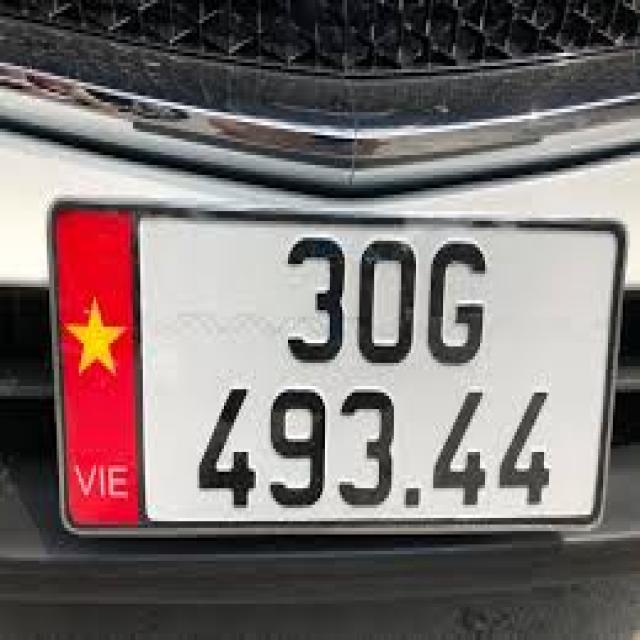bien_so: (46, 194, 626, 536)
